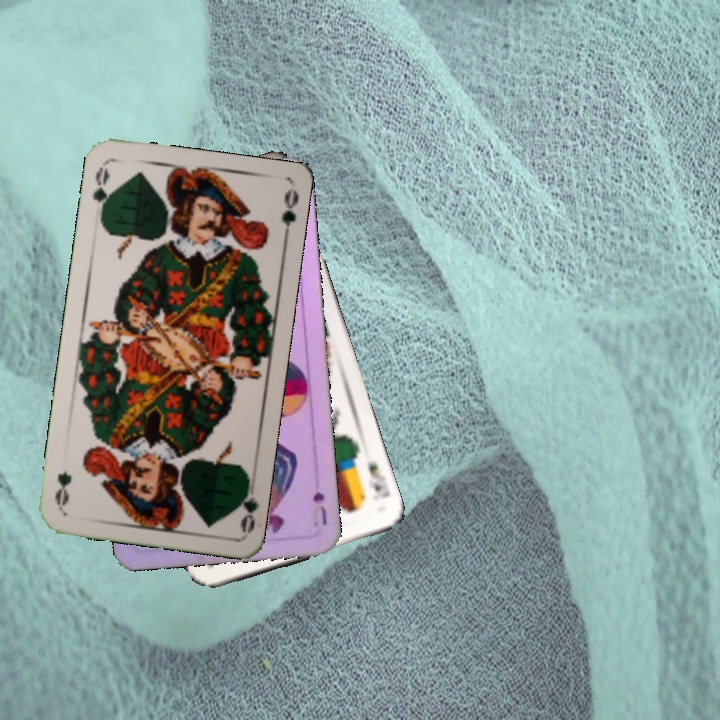EK: (363, 457, 392, 504)
GO: (232, 473, 260, 534), (88, 162, 115, 221)
SU: (309, 487, 330, 528)
